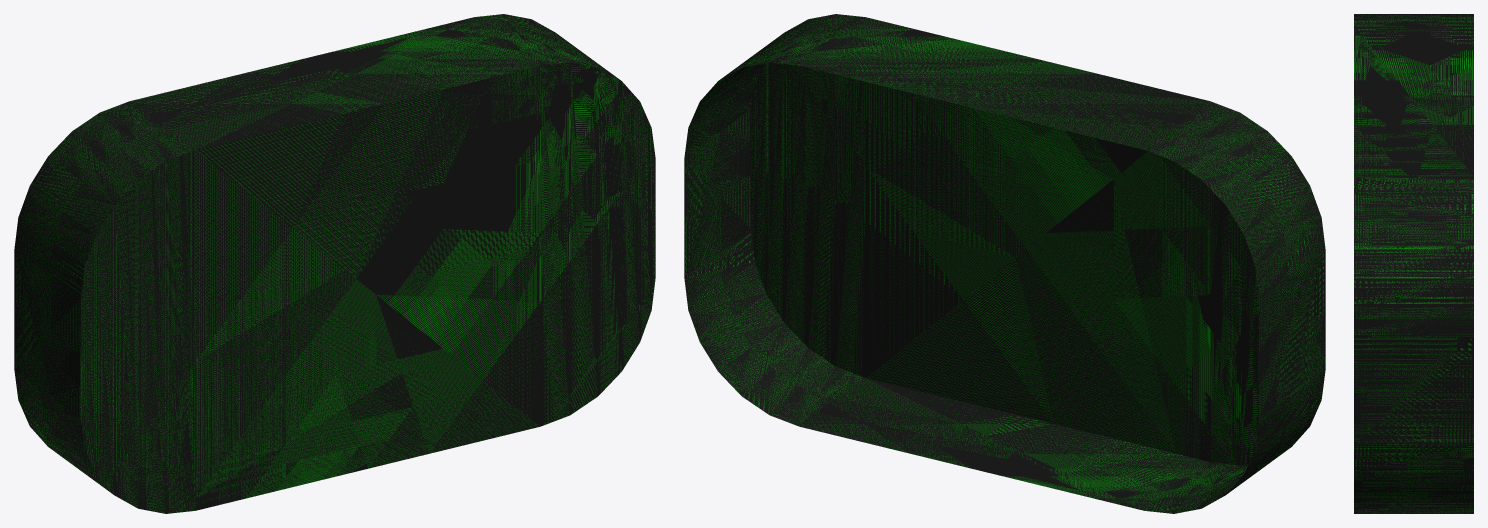
Rendered from original-119.obj.
3 renders of one model, left to right at view 1: azimuth 30°, elevation 25°; view 2: azimuth 150°, elevation 25°; view 3: azimuth 270°, elevation 25°, orthographic. The views are drawn at different scales.
Parts seen in each view (by area): view 1: mesh109/mesh109-geometry/material_0/component_5#mesh109-geometry; view 2: mesh109/mesh109-geometry/material_0/component_5#mesh109-geometry; view 3: mesh109/mesh109-geometry/material_0/component_5#mesh109-geometry.
Boxes of the visible parts, x1,y1,x2,y2 form: mesh109/mesh109-geometry/material_0/component_5#mesh109-geometry: (14, 14, 655, 513); mesh109/mesh109-geometry/material_0/component_5#mesh109-geometry: (684, 14, 1325, 513); mesh109/mesh109-geometry/material_0/component_5#mesh109-geometry: (1354, 14, 1473, 513).
Bounding box in the file's own units: 0.0869 × 0.0521 × 0.0174.
